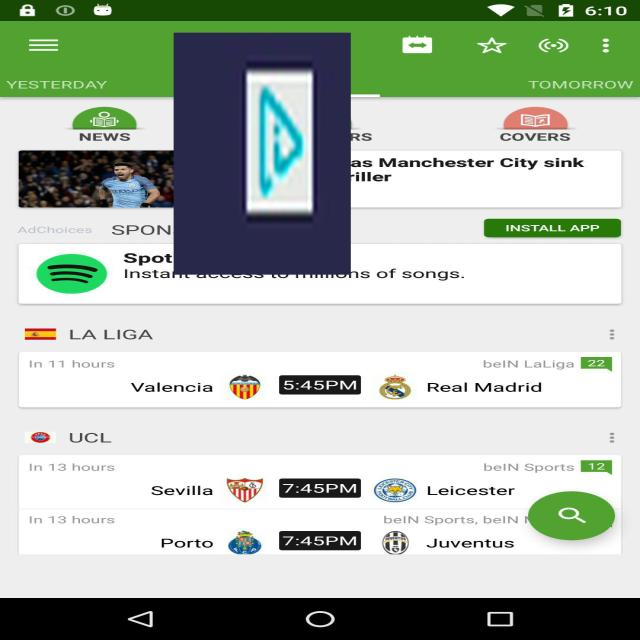sneaking: (174, 32, 350, 274)
